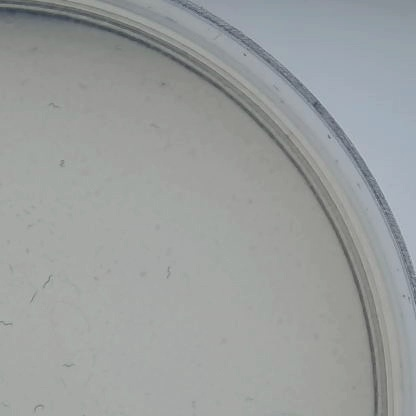worm: (53, 151, 72, 174), (147, 117, 169, 136), (26, 399, 49, 416), (56, 355, 78, 371), (0, 309, 17, 328), (21, 292, 44, 306), (161, 260, 173, 286), (40, 271, 55, 290), (45, 99, 66, 112), (8, 264, 21, 281), (0, 400, 9, 416)
